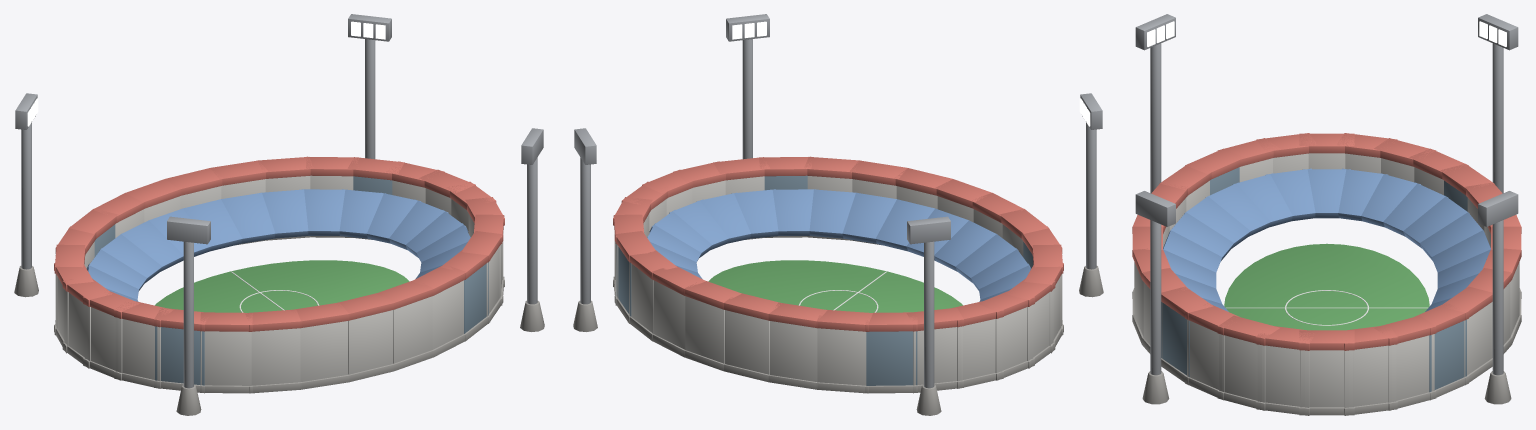
File: th9_stadion.glb
3 views of the same model, side by side, from view 1: azimuth 30°, elevation 25°; view 2: azimuth 150°, elevation 25°; view 3: azimuth 270°, elevation 25° (orthographic). The views are drawn at different scales.
Visible parts, largest first — view 1: Cylinder, Cube.012, Cube.015, Cube.018, Cube.021, Cube.006, Cube.024, Cube.009, Cube.003, Cube.104, Cube.103, Cube.027 (+63 smaller); view 2: Cylinder, Cube.072, Cube.069, Cube.066, Cube.063, Cube.078, Cube.060, Cube.075, Cube.081, Cube.092, Cube.093, Cube.057 (+63 smaller); view 3: Cylinder, Cube.042, Cube.039, Cube.045, Cube.036, Cube.048, Cube.033, Cube.051, Cylinder.002, Cylinder.003, Cylinder.001, Cylinder.004 (+70 smaller).
Boxes of the visible parts, x1,y1,x2,y2 form: Cylinder: [155, 260, 409, 312]; Cube.012: [200, 331, 251, 385]; Cube.015: [251, 328, 300, 385]; Cube.018: [300, 321, 347, 382]; Cube.021: [348, 310, 392, 374]; Cube.006: [115, 317, 160, 381]; Cube.024: [393, 296, 432, 363]; Cube.009: [155, 326, 204, 385]; Cube.003: [84, 305, 122, 372]; Cube.104: [221, 192, 275, 243]; Cube.103: [262, 189, 308, 238]; Cube.027: [432, 280, 463, 349]; Cylinder: [708, 260, 962, 312]; Cube.072: [866, 331, 917, 385]; Cube.069: [817, 328, 866, 385]; Cube.066: [770, 321, 817, 382]; Cube.063: [725, 310, 769, 374]; Cube.078: [957, 317, 1002, 381]; Cube.060: [685, 296, 724, 363]; Cube.075: [913, 326, 962, 385]; Cube.081: [995, 305, 1033, 372]; Cube.092: [842, 192, 896, 243]; Cube.093: [809, 189, 855, 238]; Cube.057: [654, 280, 685, 349]; Cylinder: [1224, 243, 1429, 330]; Cube.042: [1300, 350, 1353, 407]; Cube.039: [1257, 344, 1309, 407]; Cube.045: [1344, 344, 1396, 407]; Cube.036: [1219, 334, 1265, 402]; Cube.048: [1388, 334, 1434, 402]; Cube.033: [1187, 319, 1224, 392]; Cube.051: [1429, 319, 1466, 392]; Cylinder.002: [1150, 220, 1161, 375]; Cylinder.003: [1492, 220, 1503, 375]; Cylinder.001: [1150, 43, 1161, 193]; Cylinder.004: [1492, 43, 1503, 193].
Size of the model in its own units: 55.7 by 24.6 by 43.41.
